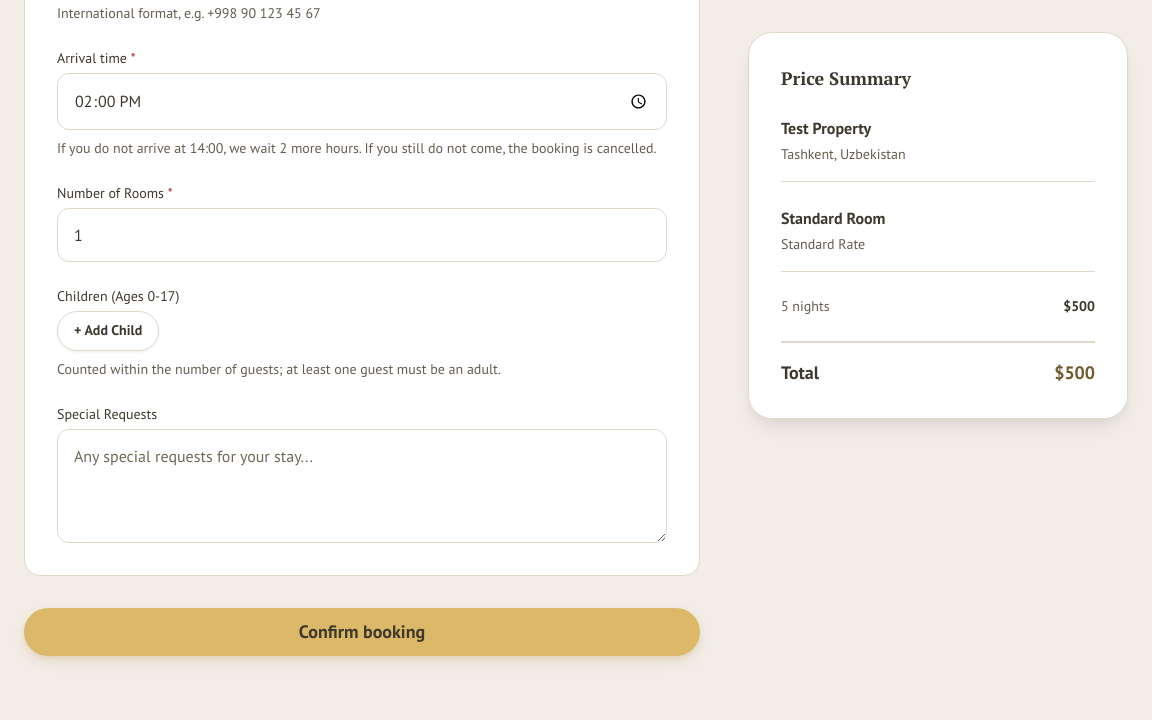
BookingPage › cash booking (plan PLAN_CASH_ONLY stage 2) › a refusal at booking time is explained in the page language, with the date written out
The image size is (1152, 720).
(page scrolled)
Click the button "Confirm booking" at (362, 632), box [24,608,700,656]
(page scrolled)
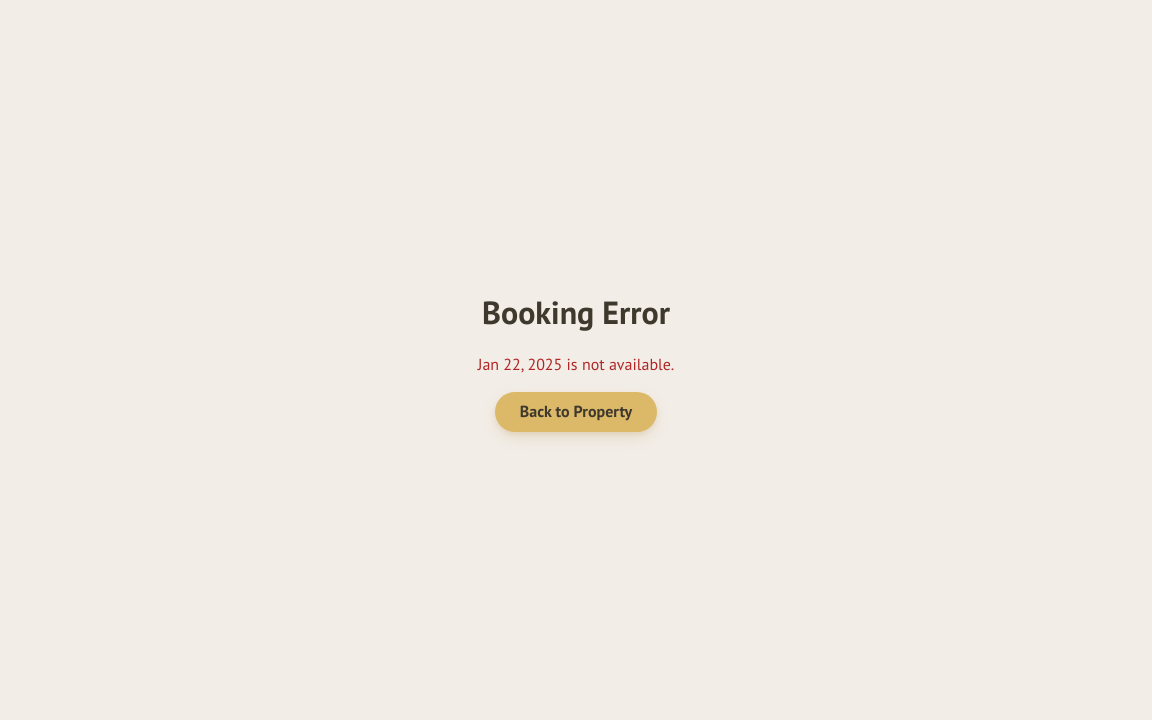
Check: the text "Jan 22, 2025 is not available." is shown, box [478,352,674,376]
